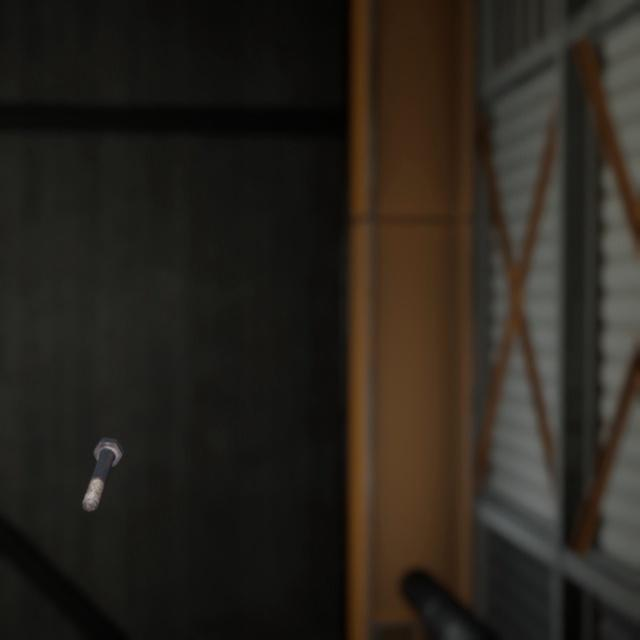bolt: (77, 413, 128, 494)
